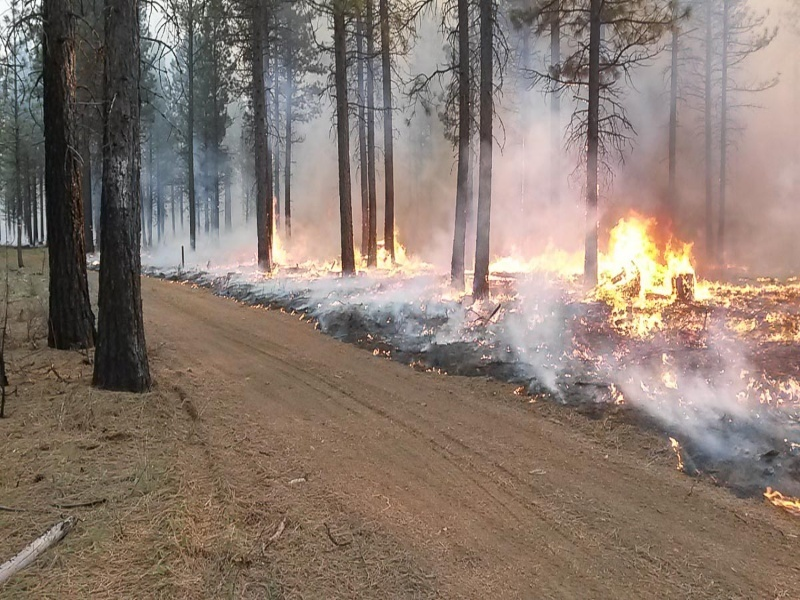smoke: (215, 87, 698, 311)
